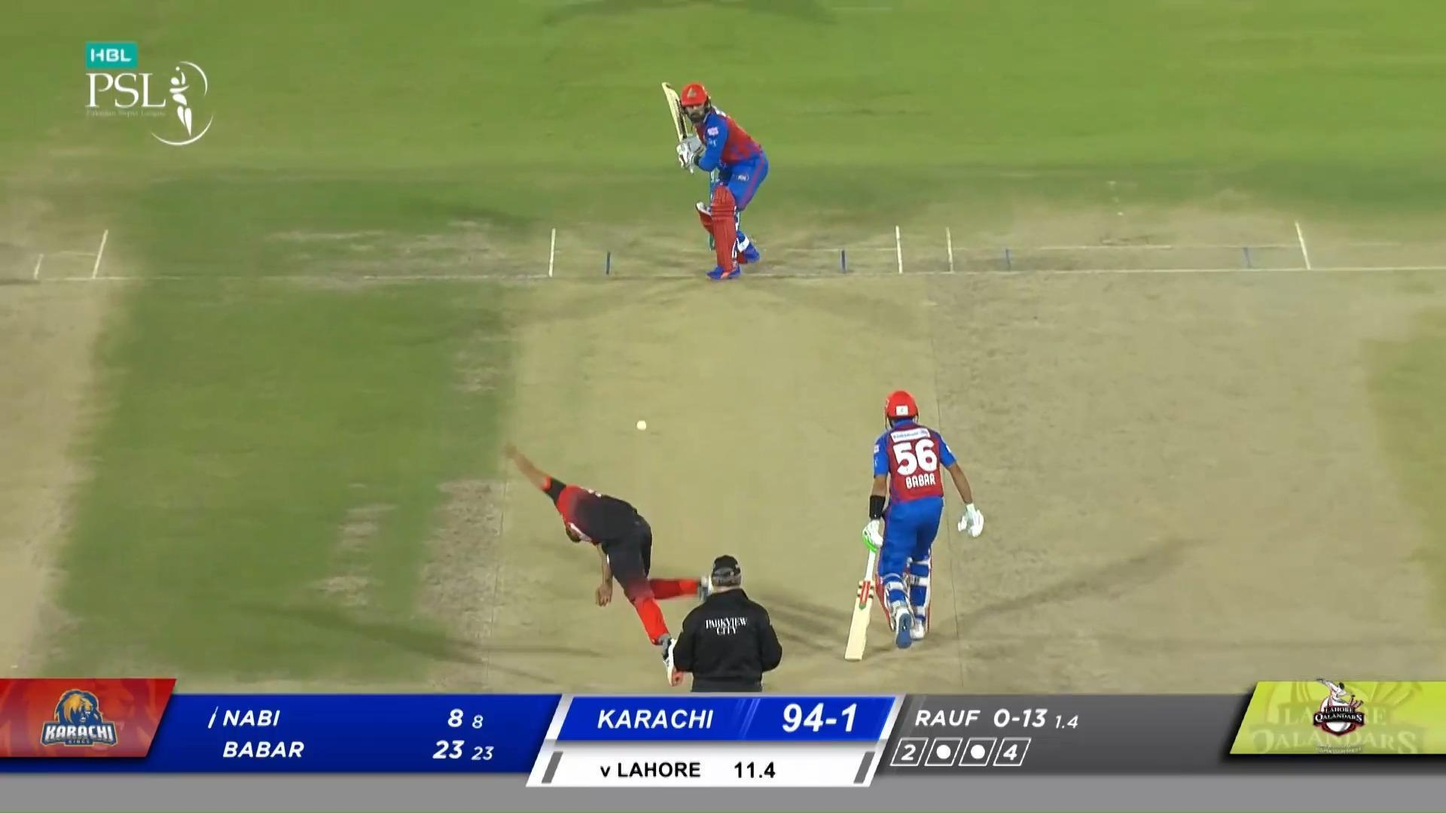BM 1: (661, 81, 769, 279)
BO: (500, 441, 718, 691)
